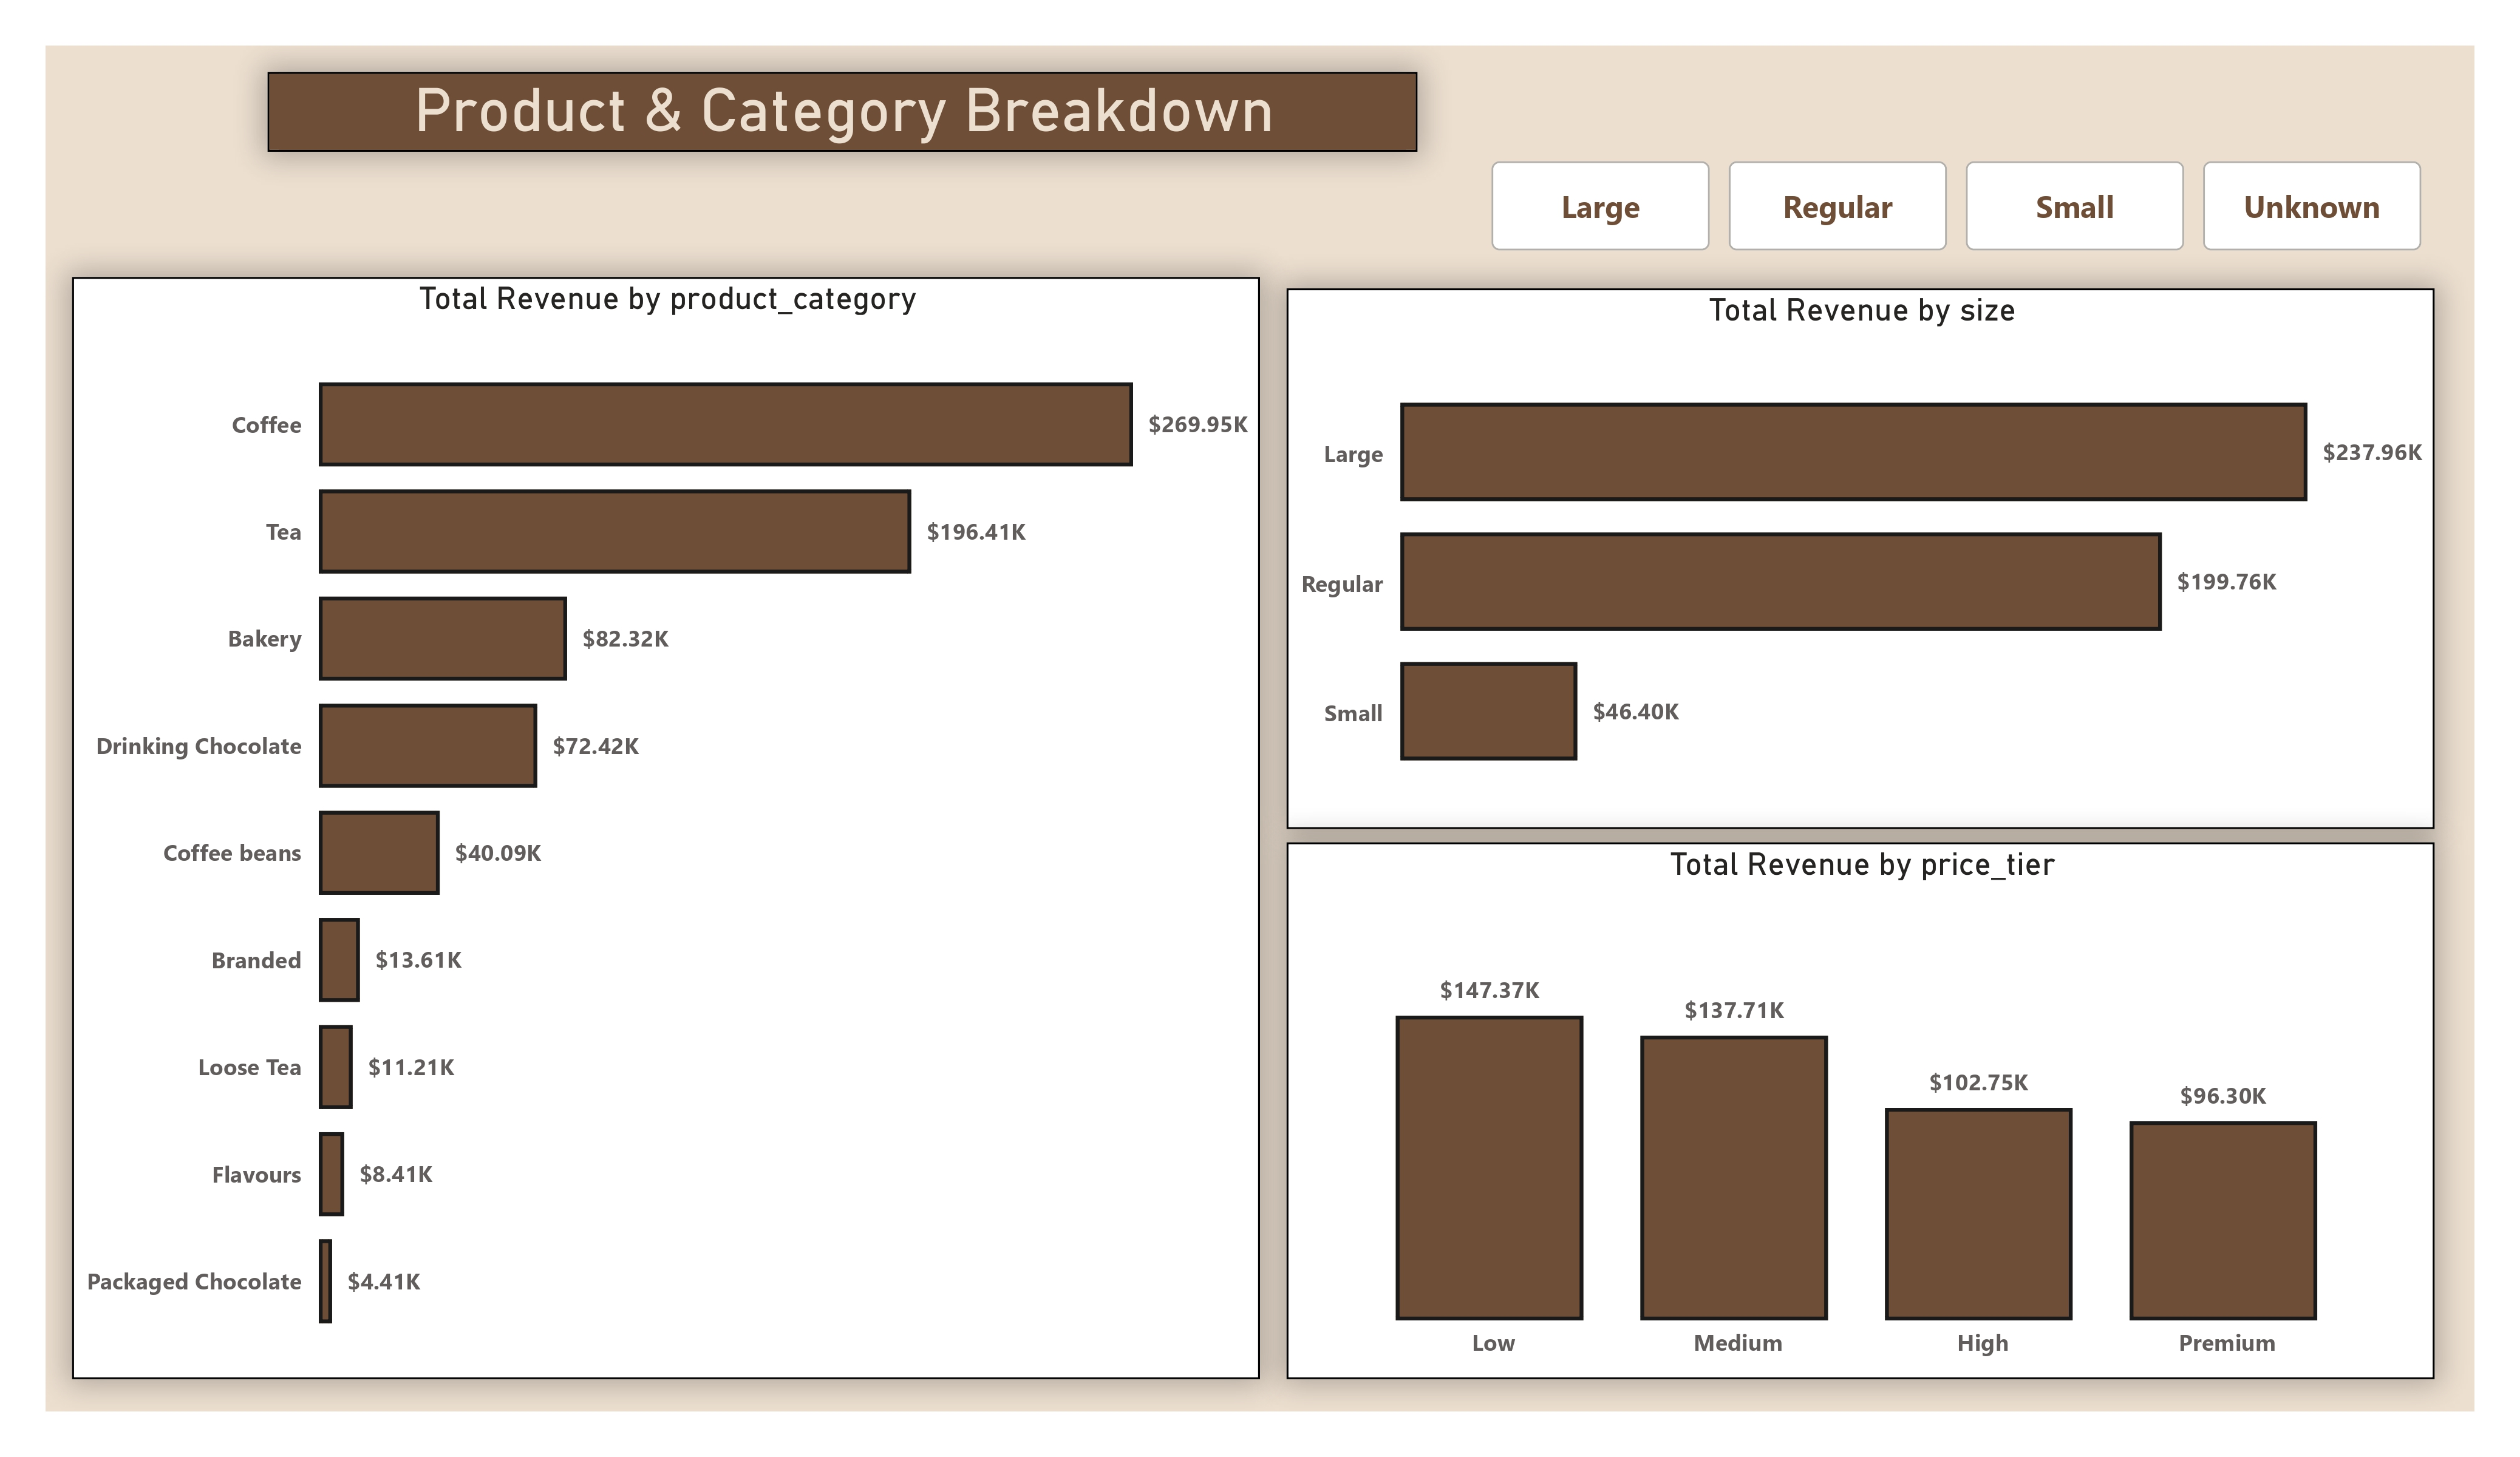

Layout of this report page (visuals, bound fields, positions):
{"tool":"powerbi","page":{"name":"Product Deep Dive","canvas":[1280,720],"ordinal":3},"visuals":[{"type":"clusteredBarChart","fields":{"Category":["dim_product.product_category"],"Y":["_fact_sales.Total Revenue"]},"box":[13.8,122.5,626.2,580.8],"z":0},{"type":"clusteredBarChart","fields":{"Category":["dim_product.size"],"Y":["_fact_sales.Total Revenue"]},"box":[653.8,128,605.6,284.9],"z":1000},{"type":"clusteredColumnChart","fields":{"Y":["_fact_sales.Total Revenue"],"Category":["dim_product.price_tier"]},"box":[653.8,419.8,605.6,283.5],"z":1001},{"type":"textbox","title":"Product & Category Breakdown","box":[117,13.8,605.6,42.7],"z":1002},{"type":"advancedSlicerVisual","fields":{"Values":["dim_product.size"]},"box":[757,56.4,502.4,56.4],"z":1003}]}

Visuals, with their boxes on the page's 1280x720 design canvas (x1, y1, x2, y2). These are canvas units, not pixel positions in the 2520x1457 screenshot, which may show the page scaled, cropped or inside an application window:
clusteredBarChart - dim_product.product_category x _fact_sales.Total Revenue: (left=14, top=122, right=640, bottom=703)
clusteredBarChart - dim_product.size x _fact_sales.Total Revenue: (left=654, top=128, right=1259, bottom=413)
clusteredColumnChart - _fact_sales.Total Revenue x dim_product.price_tier: (left=654, top=420, right=1259, bottom=703)
"Product & Category Breakdown" textbox: (left=117, top=14, right=723, bottom=56)
advancedSlicerVisual - dim_product.size: (left=757, top=56, right=1259, bottom=113)
